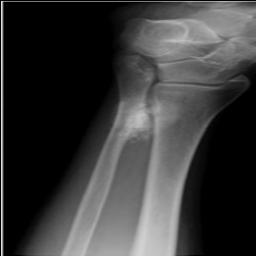cancer: (112, 95, 176, 144)
